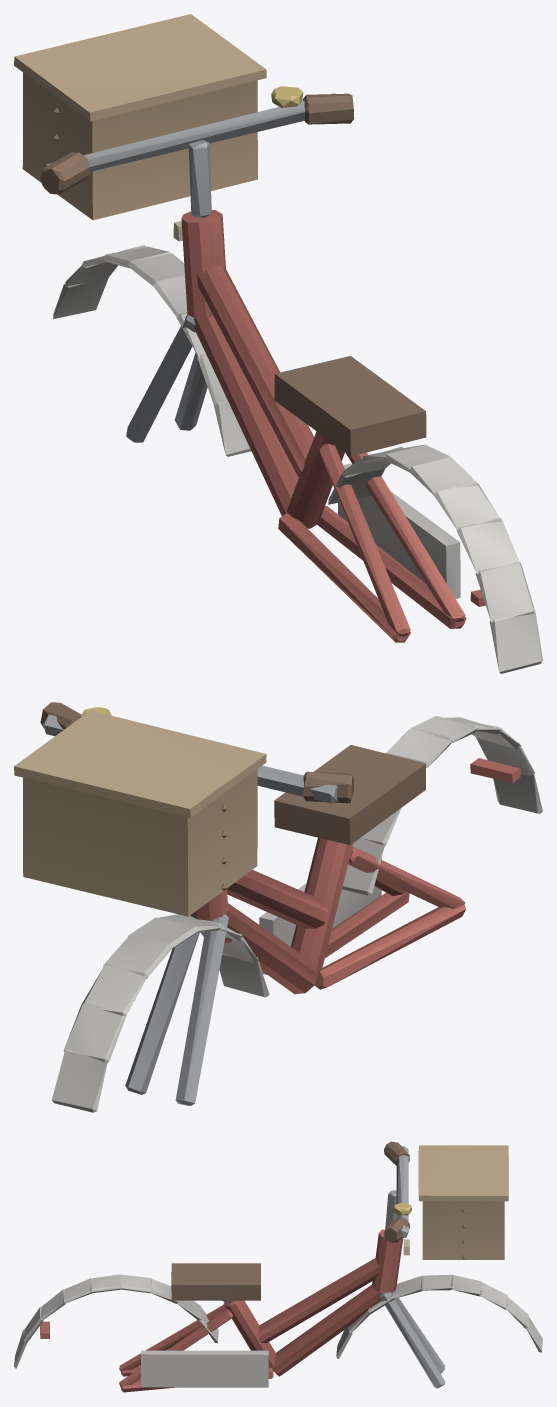
File: bike_frame__red_low.glb
The picture shows the model from 3 angles, top to bottom: view 1: azimuth 30°, elevation 25°; view 2: azimuth 150°, elevation 25°; view 3: azimuth 270°, elevation 25°; orthographic projection. The views are drawn at different scales.
Size of the model in its own units: 0.553 by 0.6181 by 1.39.
